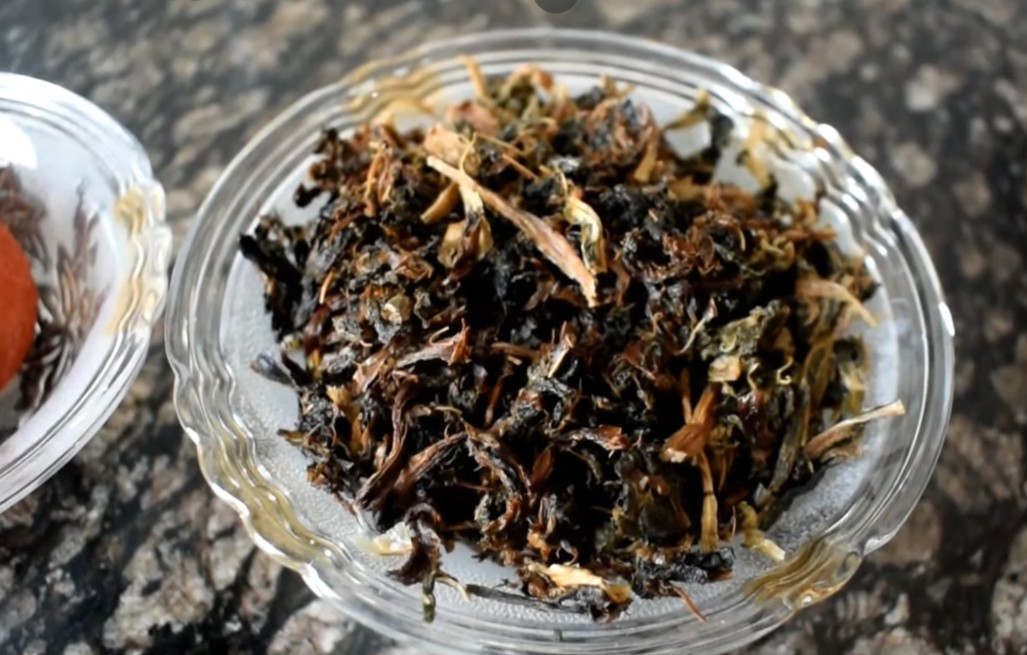gundruk: (296, 93, 821, 541)
